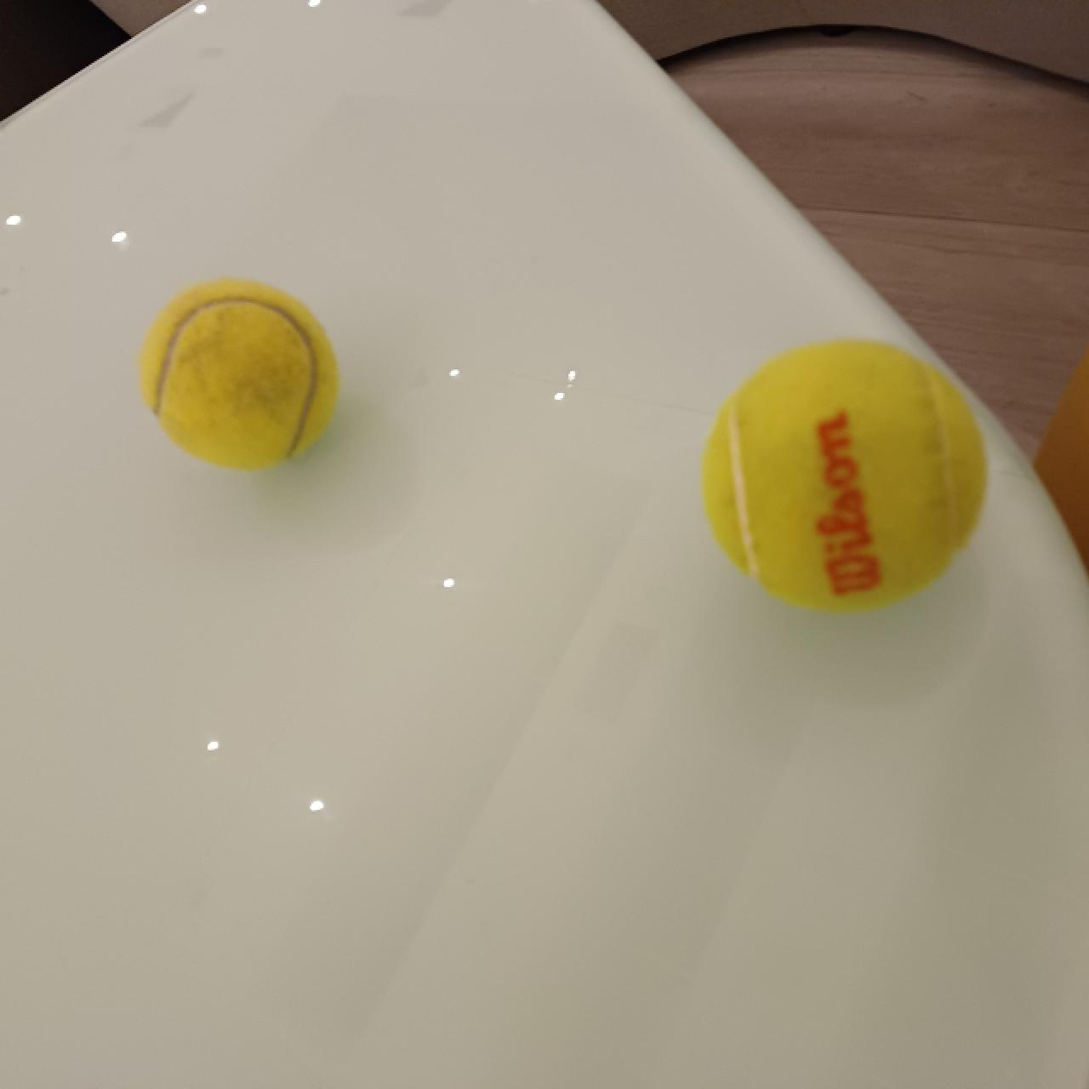tennis-ball: (699, 337, 987, 612), (139, 277, 337, 470)
